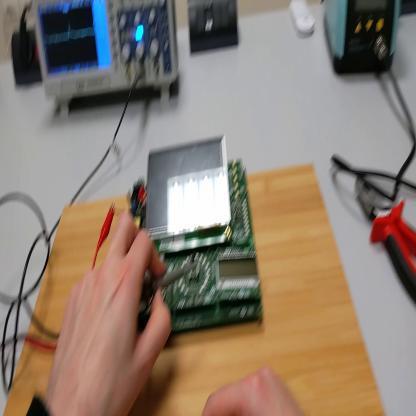hand: (50, 210, 171, 414), (204, 366, 301, 414)
low voltage board: (118, 127, 268, 333)
oscilloscope: (32, 2, 179, 118)
oscilloscope probe tip: (145, 257, 196, 295)
pliers: (355, 173, 416, 305)
socket: (11, 32, 43, 91), (401, 3, 416, 18)
welder station: (327, 1, 402, 77)
working area: (3, 163, 386, 415)
